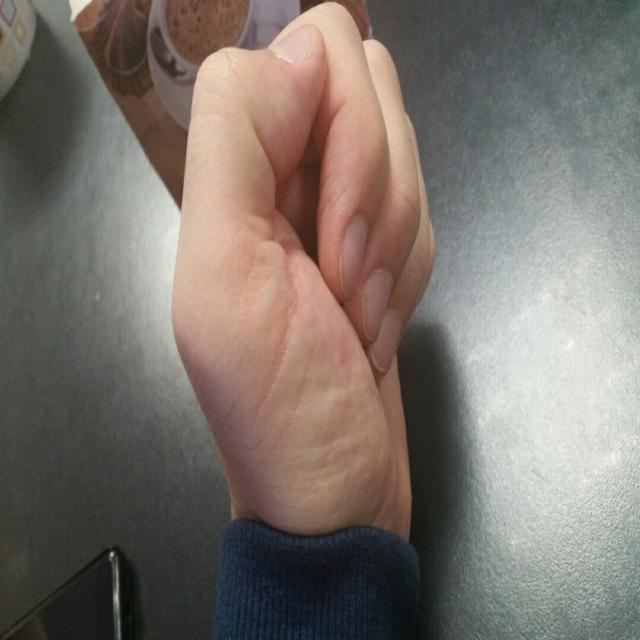Nail: (339, 218, 368, 298), (362, 269, 392, 340), (369, 309, 402, 373), (271, 24, 315, 64)
